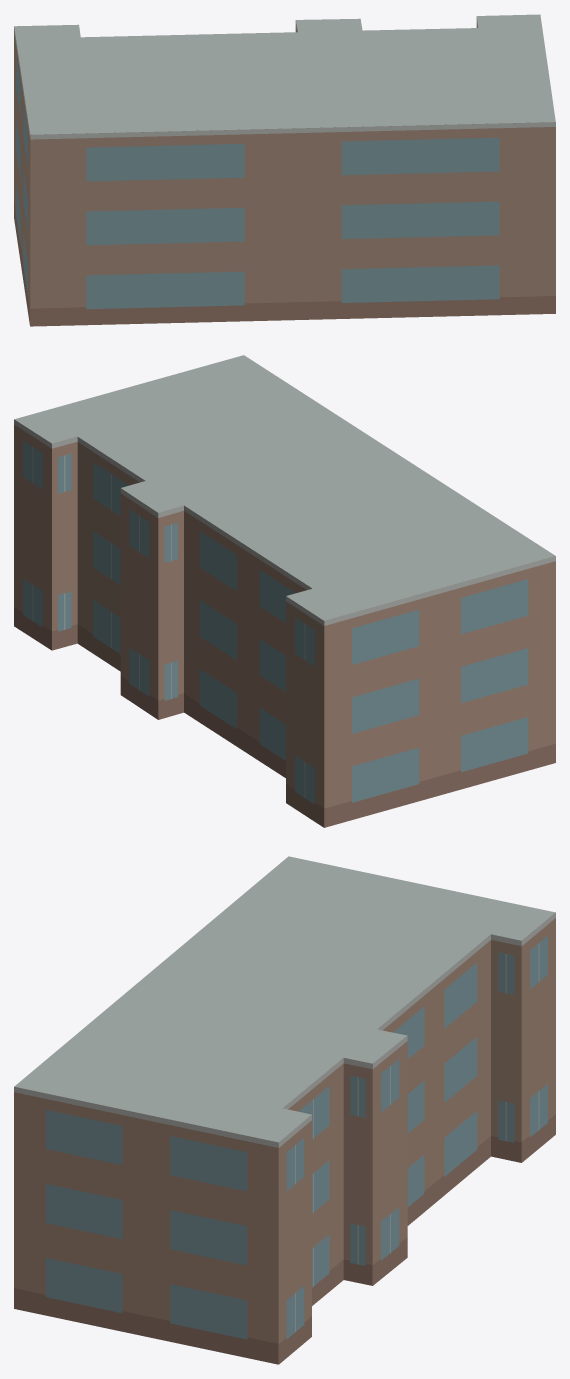
The model's file is survey-upis-33003848.glb.
3 views of the same model, one above another, from view 1: azimuth 30°, elevation 25°; view 2: azimuth 150°, elevation 25°; view 3: azimuth 270°, elevation 25° (orthographic). The views are drawn at different scales.
Visible parts, largest first — view 1: survey-upis-33003848.tmp; view 2: survey-upis-33003848.tmp; view 3: survey-upis-33003848.tmp.
Part boxes in pixels (x1,y1,x2,y2): survey-upis-33003848.tmp: (14,14,555,326); survey-upis-33003848.tmp: (14,355,555,827); survey-upis-33003848.tmp: (14,856,555,1364).
Size of the model in its own units: 27.09 by 9.8 by 21.67.
